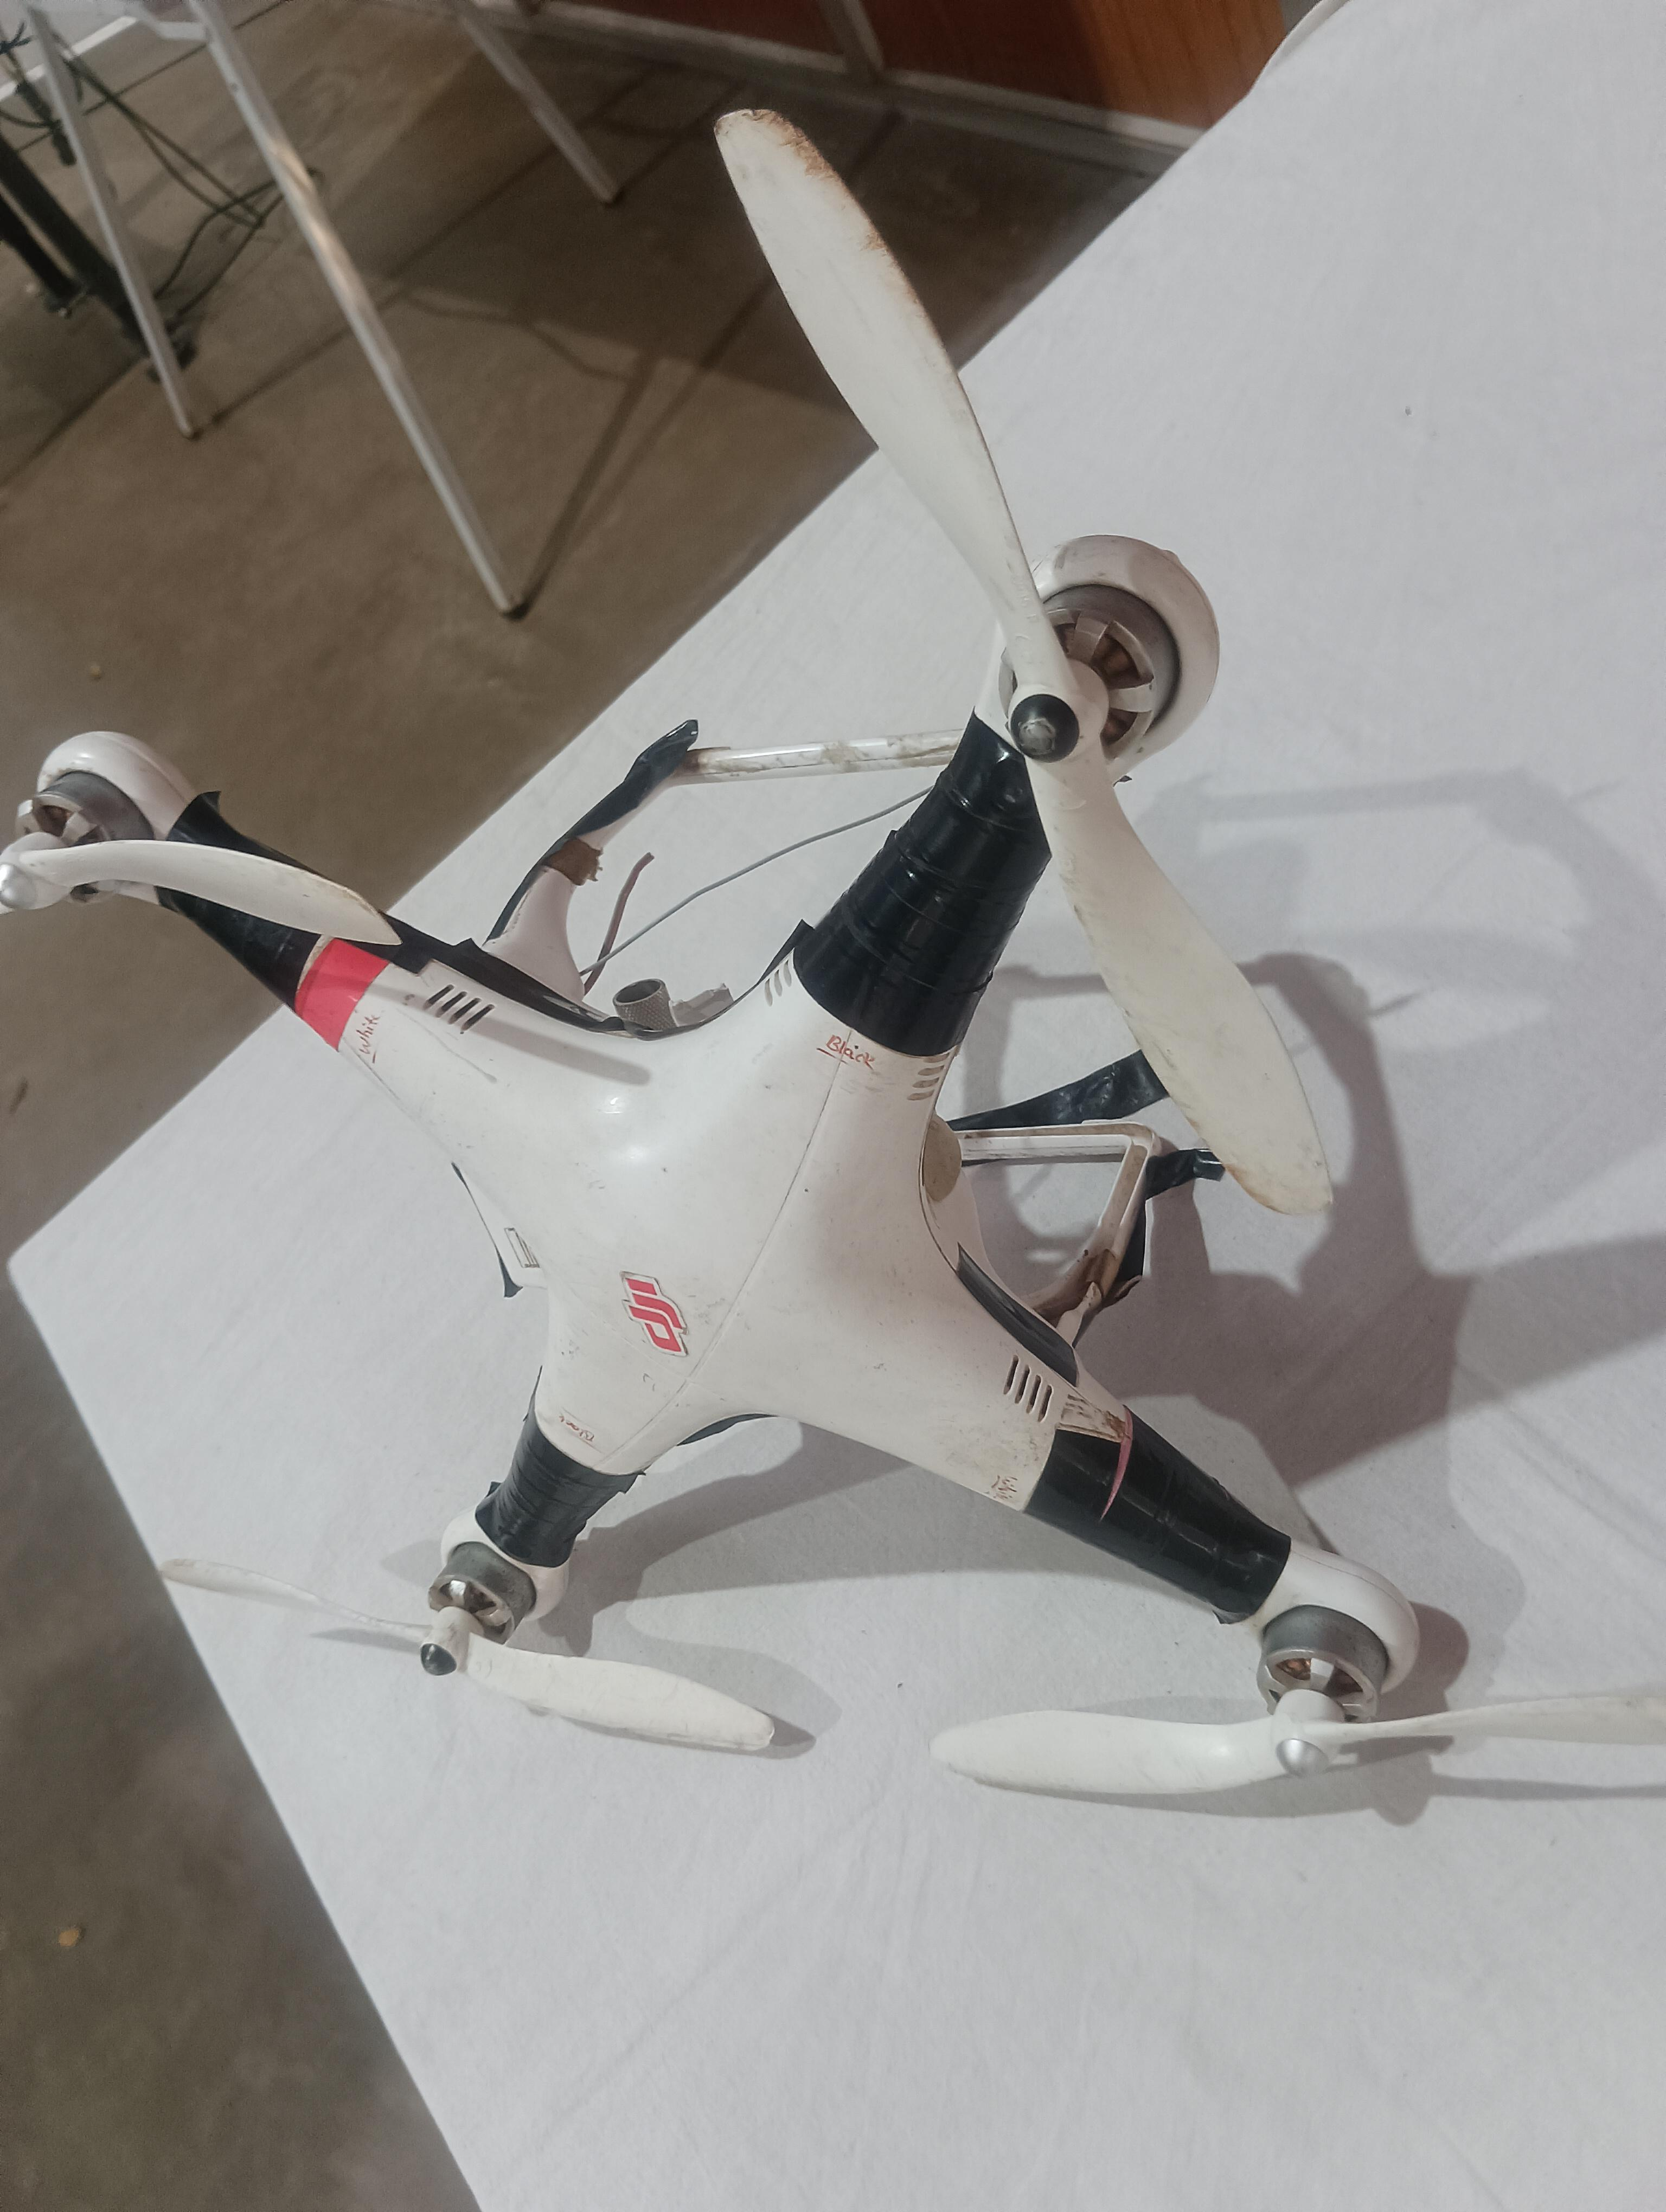drone: (0, 98, 1666, 1882)
